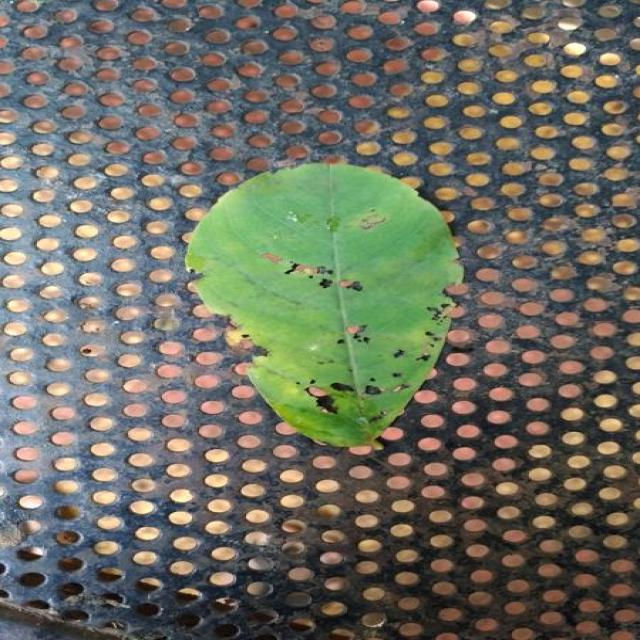alternaria blight: (187, 164, 463, 446)
